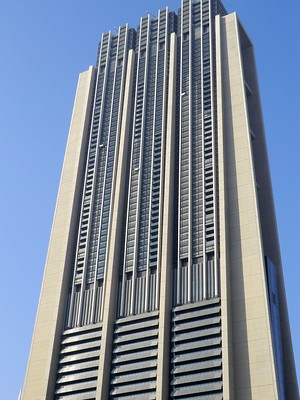high: (14, 1, 298, 399)
